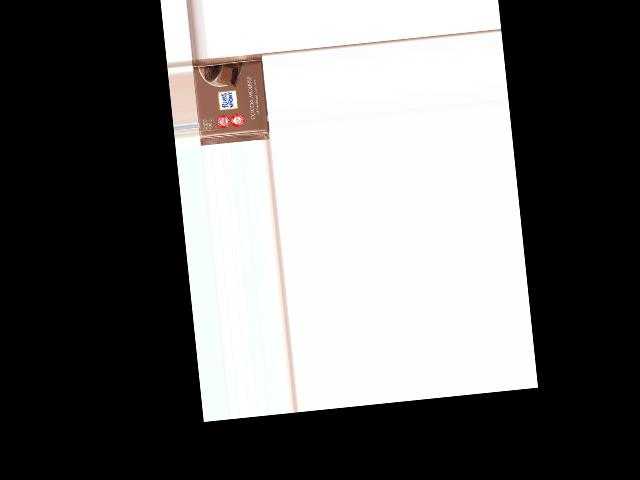chocolate: (192, 53, 271, 144)
